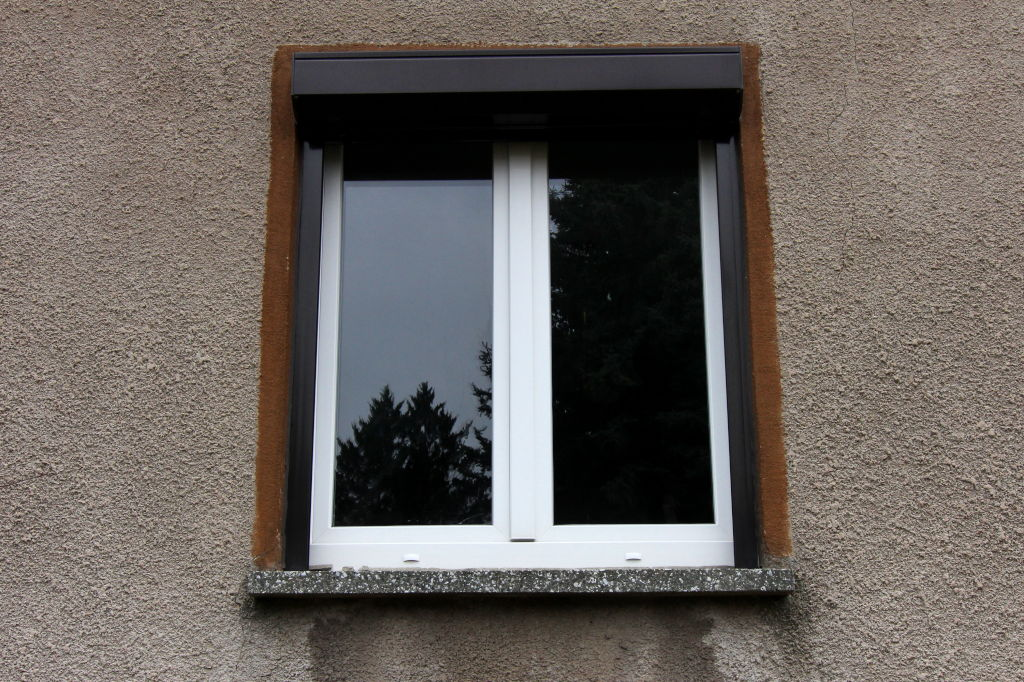windows: (303, 97, 756, 566)
